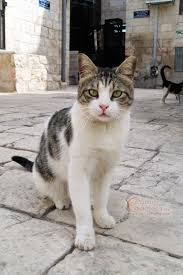cat: (4, 48, 161, 253)
